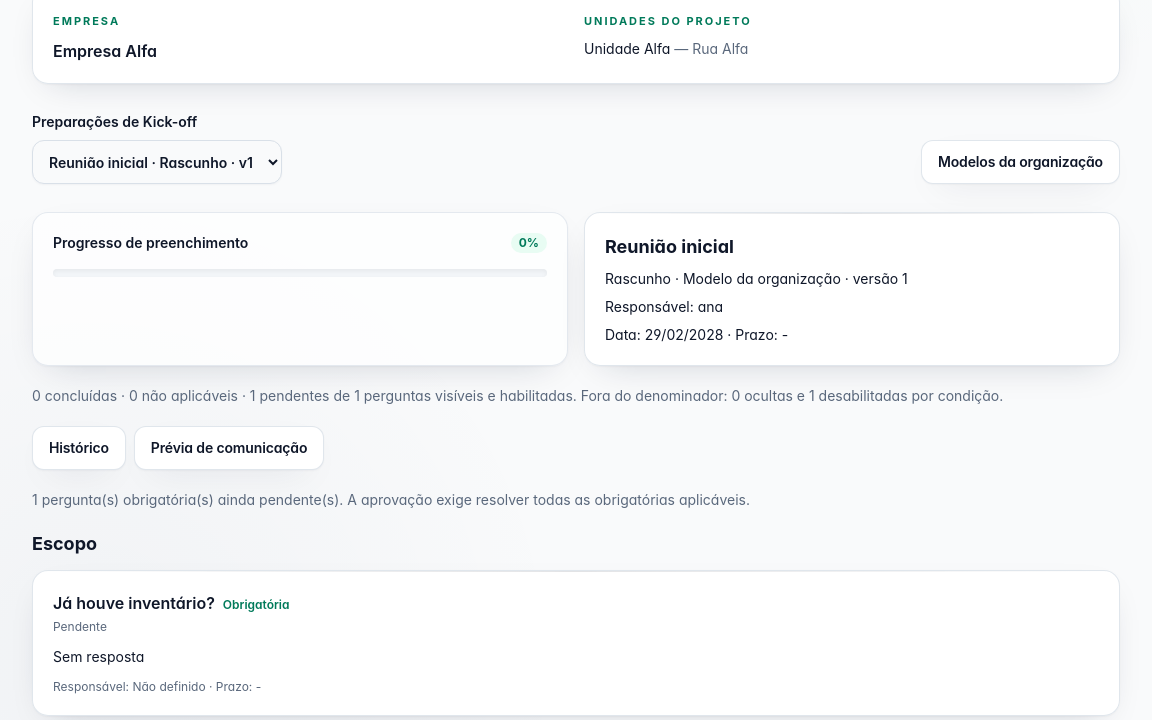
Test: Project preparation UI › keeps read-only access without editing/approval actions and exposes audit actor/date
(page scrolled)
Expected: the heading "Reunião inicial" is shown, [605,236,734,257]
Click the button "Histórico".
click(79, 448)  # box [32,426,126,470]
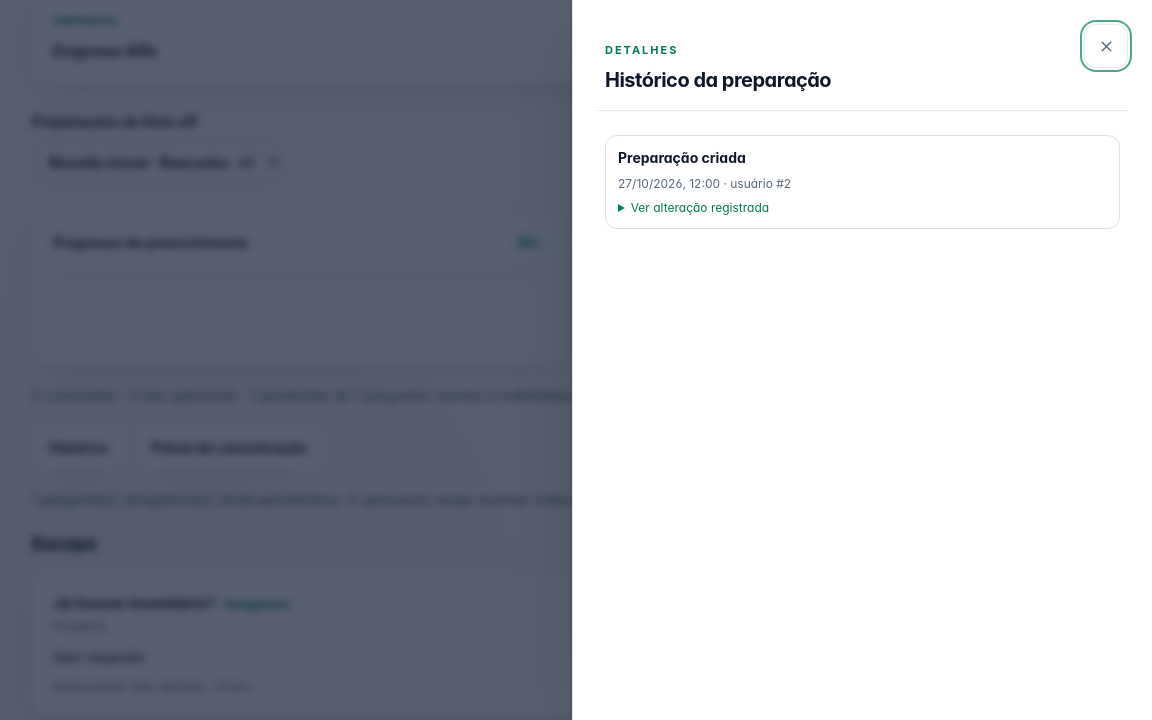
Expected: the heading "Preparação criada" is shown, [618,149,746,166]
Expected: the text "27/10/2026, 12:00 · usuário #2" is shown, [618,176,791,191]
